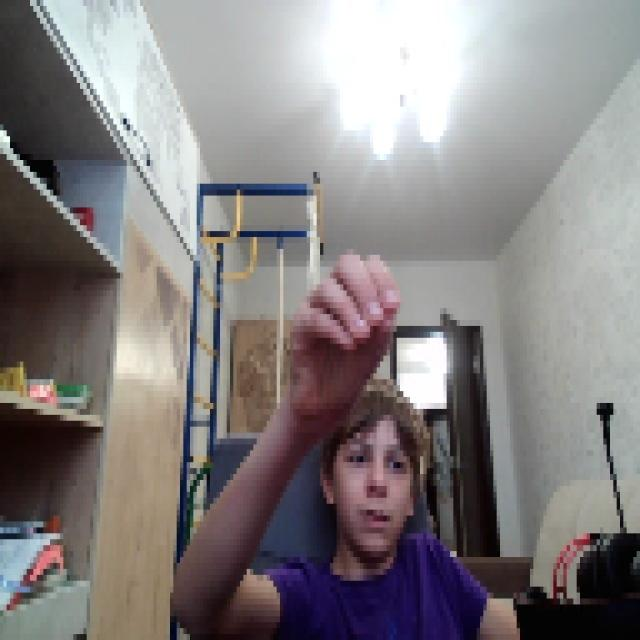left_click: (286, 243, 396, 427)
